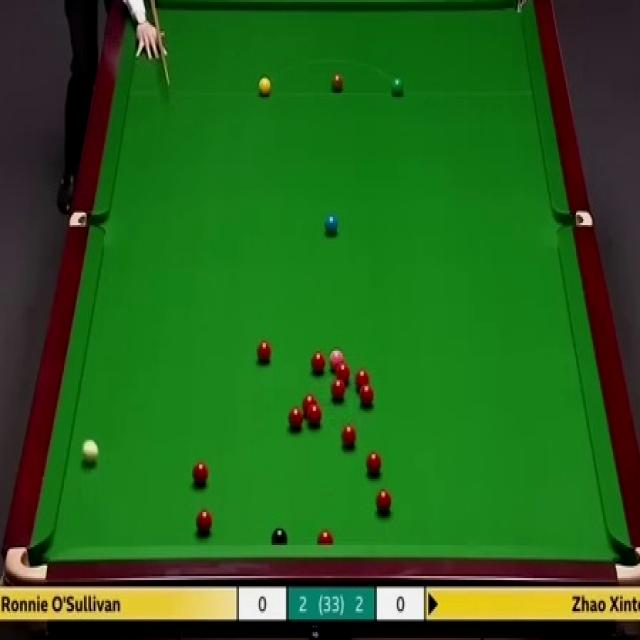black-ball: (271, 528, 289, 545)
blue-ball: (324, 216, 339, 233)
brown-ball: (332, 74, 343, 92)
green-ball: (390, 74, 405, 98)
pink-ball: (330, 349, 344, 370)
red-ball: (365, 450, 382, 476), (340, 424, 357, 450), (333, 362, 351, 386), (195, 511, 212, 535), (308, 353, 327, 374), (191, 462, 210, 483), (256, 338, 272, 362), (376, 490, 392, 514), (288, 406, 303, 431), (354, 368, 370, 390), (331, 381, 346, 404), (360, 383, 375, 406), (308, 404, 322, 425), (316, 530, 335, 544), (303, 395, 316, 414)
white-ball: (80, 442, 100, 465)
yellow-ball: (259, 76, 271, 98)
